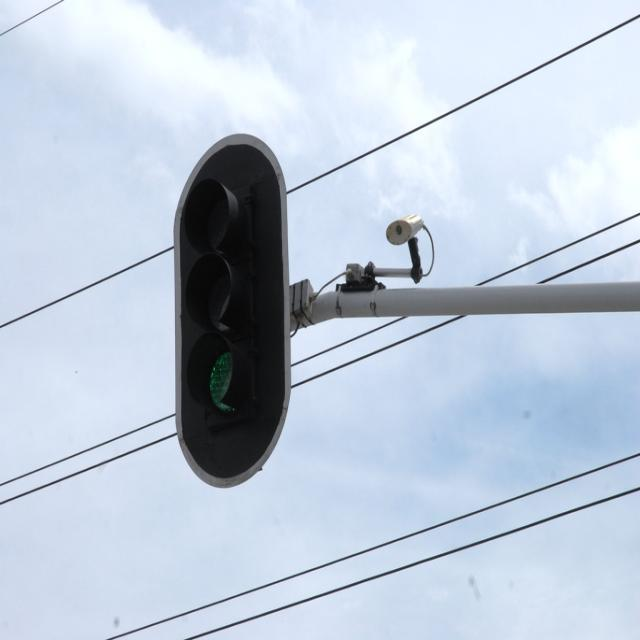traffic light: (175, 134, 289, 488)
